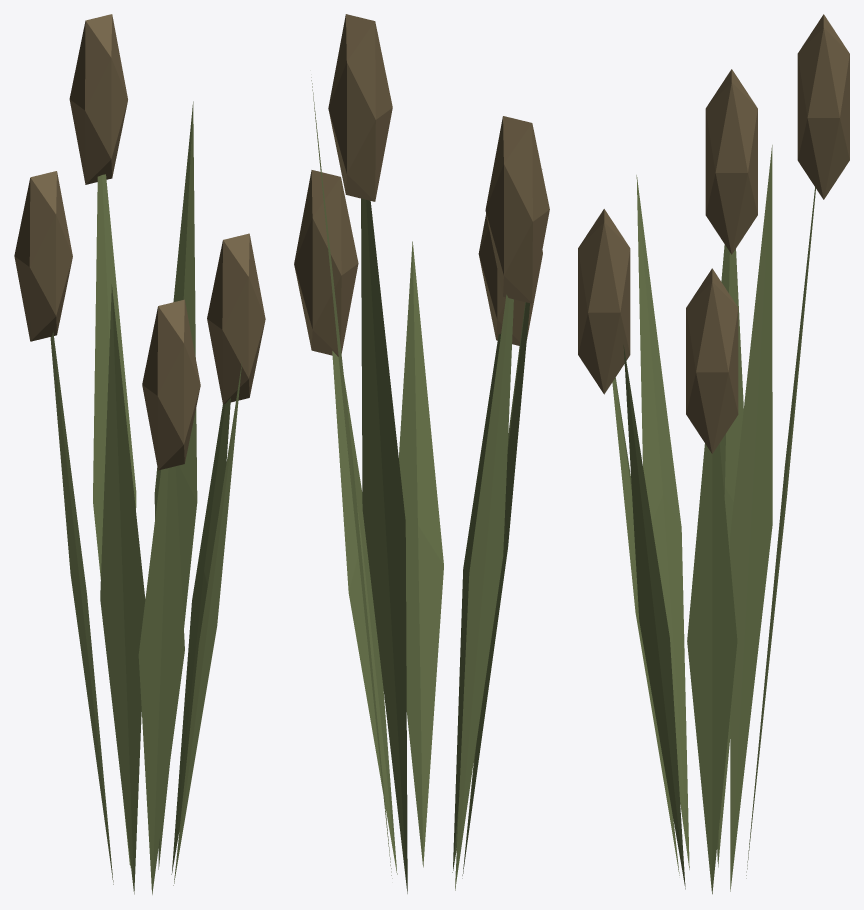
Rendered from plant-reed.glb.
The picture shows the model from 3 angles, left to right: view 1: azimuth 30°, elevation 25°; view 2: azimuth 150°, elevation 25°; view 3: azimuth 270°, elevation 25°; orthographic projection. The views are drawn at different scales.
Parts seen in each view (by area): view 1: plant-reed; view 2: plant-reed; view 3: plant-reed.
Boxes of the visible parts, x1,y1,x2,y2 form: plant-reed: [14, 14, 265, 894]; plant-reed: [294, 14, 549, 893]; plant-reed: [578, 14, 849, 894].
Size of the model in its own units: 0.4905 by 1.71 by 0.4859.
